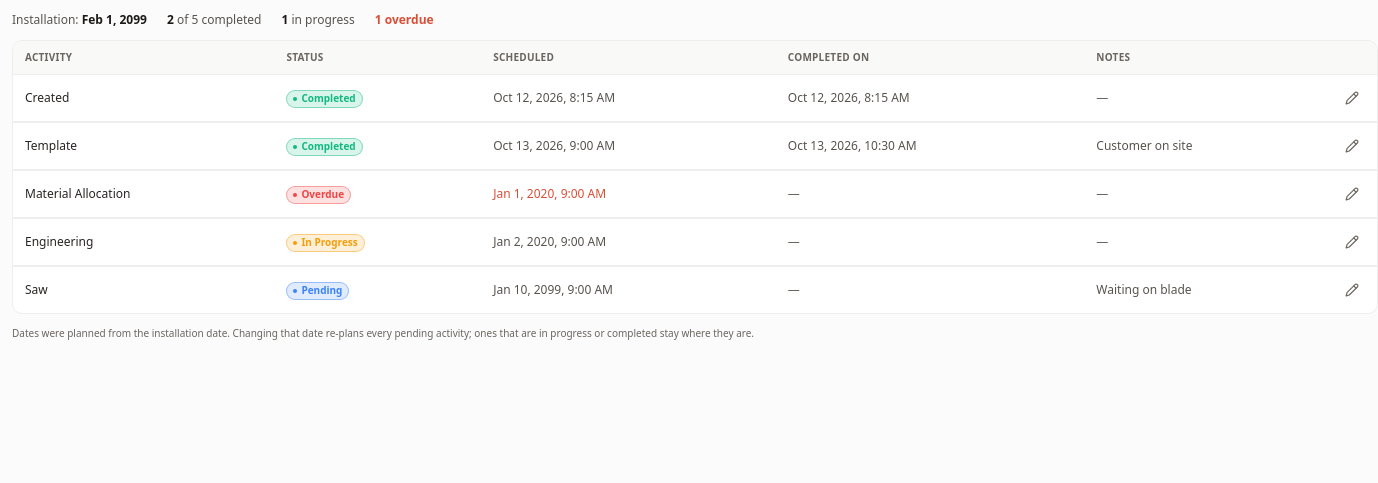
Test: SalesOrderSchedulingTab › locks the status of the Created row
This screenshot has width=1378, height=483.
Expected: the table is shown, [13, 41, 1377, 313]
Click the button named "Edit Created": (1352, 98) [1339, 85, 1365, 111]
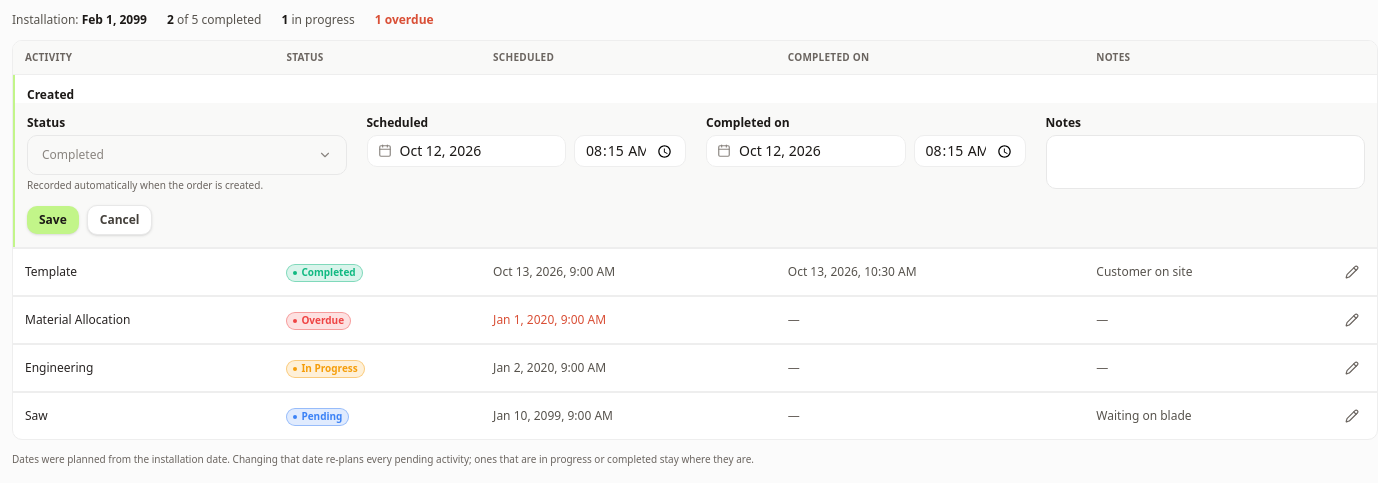
Now the dropdown named "Status for Created" is disabled, box [27, 135, 346, 175]
